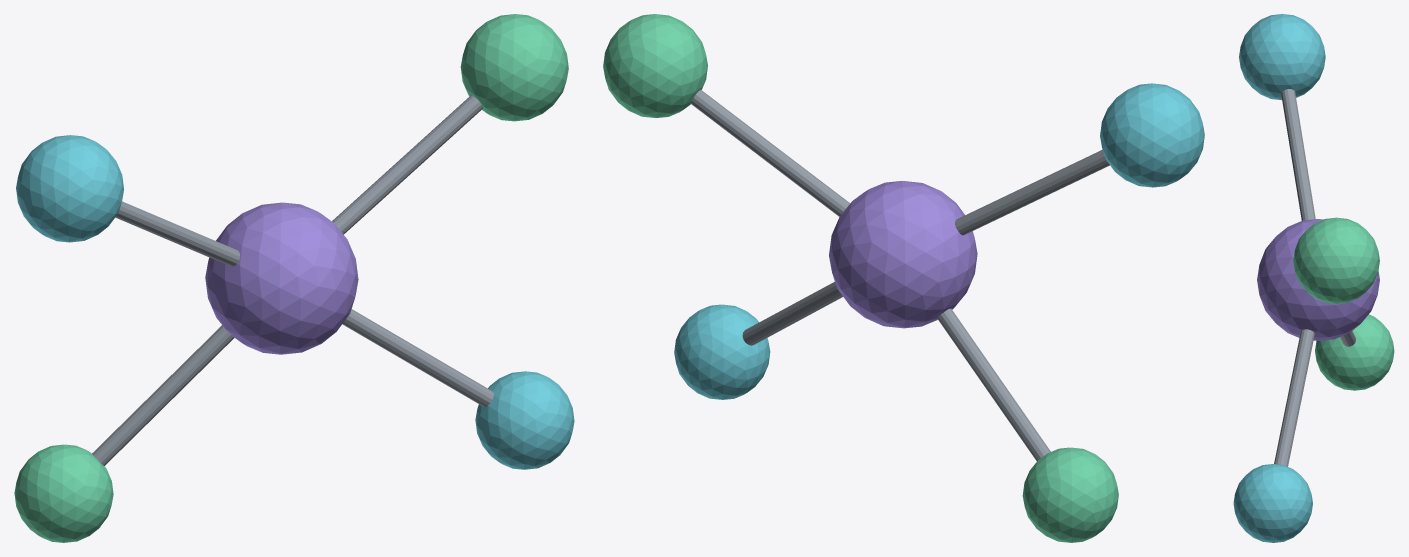
Rendered from api.glb.
3 views of the same model, side by side, from view 1: azimuth 30°, elevation 25°; view 2: azimuth 150°, elevation 25°; view 3: azimuth 270°, elevation 25° (orthographic). The views are drawn at different scales.
Parts seen in each view (by area): view 1: world, link2, link3, link4, link1; view 2: world, link2, link3, link1, link4; view 3: world, link4, link1.
Boxes of the visible parts, x1,y1,x2,y2 form: world: (14,14,574,542); link2: (332,95,482,234); link3: (92,325,234,465); link4: (342,309,493,406); link1: (115,201,239,266); world: (603,14,1204,542); link2: (690,90,849,216); link3: (937,308,1050,461); link1: (955,149,1109,235); link4: (742,281,842,345); world: (1233,14,1394,542); link4: (1274,329,1314,466); link1: (1281,89,1315,220).
Bounding box in the file's own units: 2.93 × 2.16 × 0.89.
